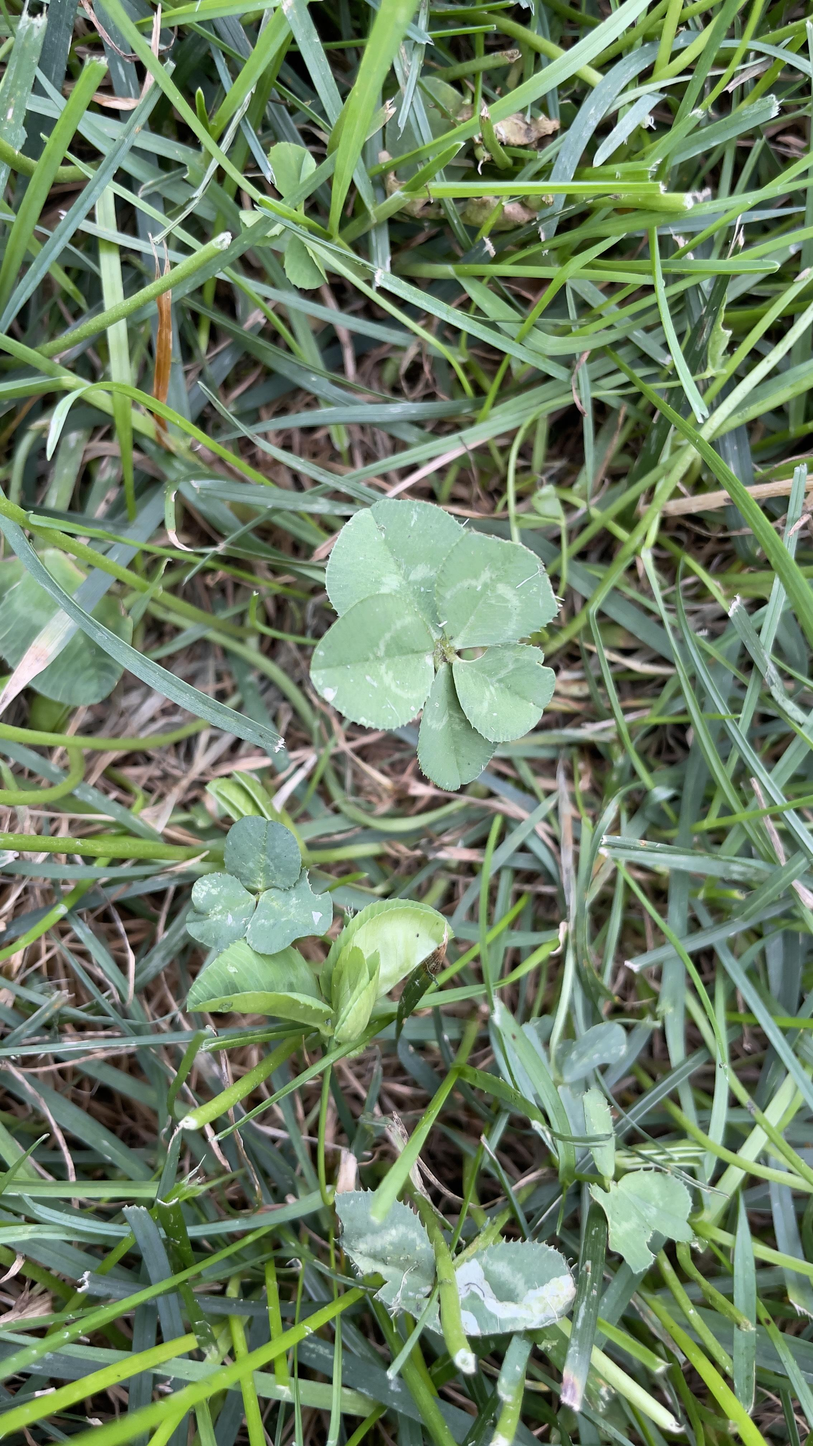5-Leaf-Clovers: (279, 448, 443, 900)
